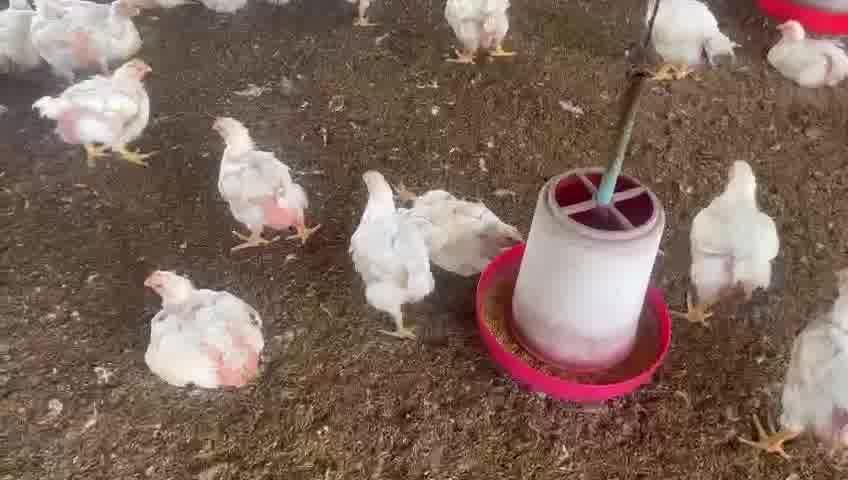AbNormal: (136, 267, 267, 386), (769, 20, 848, 86)
Normal: (746, 263, 848, 460), (681, 159, 776, 327), (210, 113, 320, 254), (346, 171, 437, 337), (35, 57, 154, 164), (33, 0, 145, 77), (656, 3, 732, 85), (440, 2, 519, 67)
